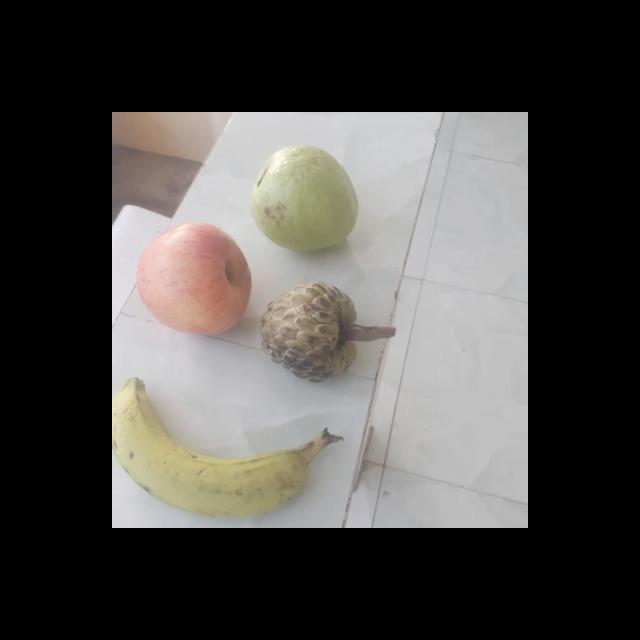Sakya fruit: (262, 278, 364, 382)
apple: (135, 224, 254, 332)
banana: (113, 378, 340, 516)
guava: (254, 148, 361, 249)
